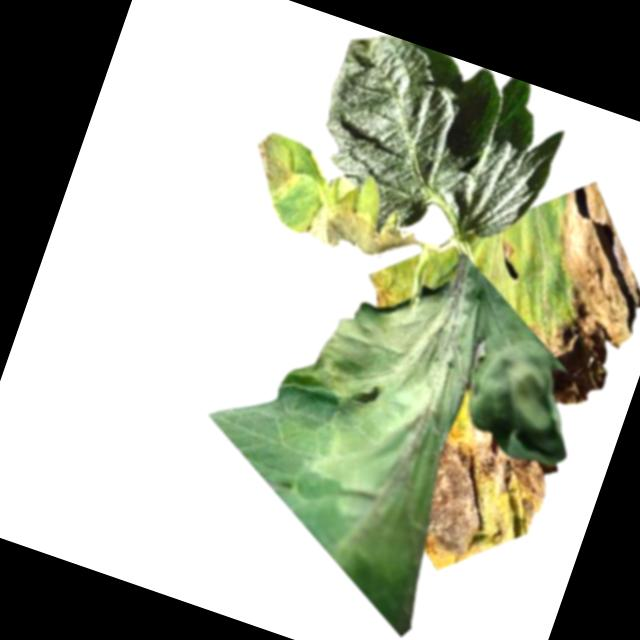healthy: (261, 225, 510, 573), (297, 23, 576, 267), (497, 171, 640, 422), (410, 420, 566, 597), (454, 298, 610, 473), (303, 184, 424, 272), (240, 125, 310, 204), (357, 261, 413, 318)
